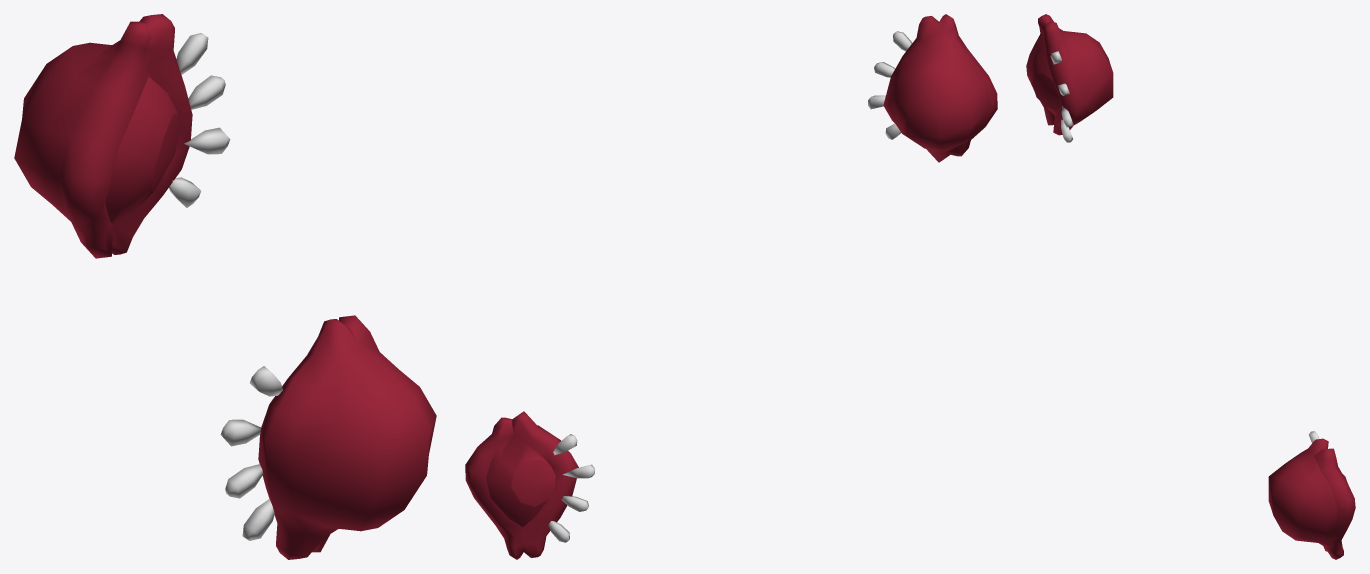
The model's file is S12_Reptile04_L2_Ear.glb.
3 views of the same model, side by side, from view 1: azimuth 30°, elevation 25°; view 2: azimuth 150°, elevation 25°; view 3: azimuth 270°, elevation 25° (orthographic). The views are drawn at different scales.
Parts seen in each view (by area): view 1: S12_Reptile04_L2_Ear__Ear_L__surface0__lod0, S12_Reptile04_L2_Ear__Ear_R__surface1__lod0; view 2: S12_Reptile04_L2_Ear__Ear_L__surface0__lod0, S12_Reptile04_L2_Ear__Ear_R__surface1__lod0; view 3: S12_Reptile04_L2_Ear__Ear_L__surface0__lod0, S12_Reptile04_L2_Ear__Ear_R__surface1__lod0.
Part boxes in pixels (left/top/right/bottom): S12_Reptile04_L2_Ear__Ear_L__surface0__lod0: left=14, top=14, right=230, bottom=258; S12_Reptile04_L2_Ear__Ear_R__surface1__lod0: left=220, top=315, right=436, bottom=559; S12_Reptile04_L2_Ear__Ear_L__surface0__lod0: left=868, top=14, right=997, bottom=162; S12_Reptile04_L2_Ear__Ear_R__surface1__lod0: left=465, top=411, right=594, bottom=559; S12_Reptile04_L2_Ear__Ear_L__surface0__lod0: left=1026, top=14, right=1113, bottom=142; S12_Reptile04_L2_Ear__Ear_R__surface1__lod0: left=1268, top=431, right=1355, bottom=559.
Bounding box in the file's own units: 117 × 151 × 105.
